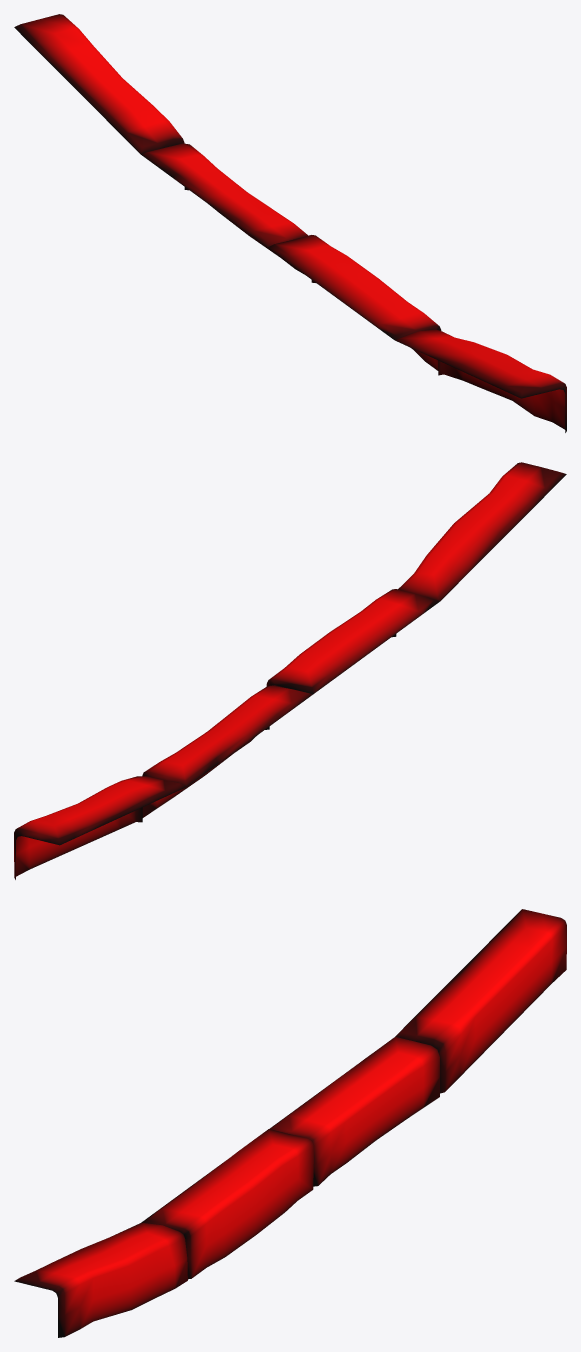
The model's file is curb_4_garage.fbx.
The picture shows the model from 3 angles, top to bottom: view 1: azimuth 30°, elevation 25°; view 2: azimuth 150°, elevation 25°; view 3: azimuth 330°, elevation 25°; orthographic projection.
Visible parts, largest first — view 1: curb_4_garage; view 2: curb_4_garage; view 3: curb_4_garage.
Part boxes in pixels (x1=…): curb_4_garage: x1=14, y1=14, x2=566, y2=432; curb_4_garage: x1=14, y1=462, x2=566, y2=879; curb_4_garage: x1=14, y1=909, x2=566, y2=1337.
Bounding box in the file's own units: 0.2481 × 0.37 × 4.
